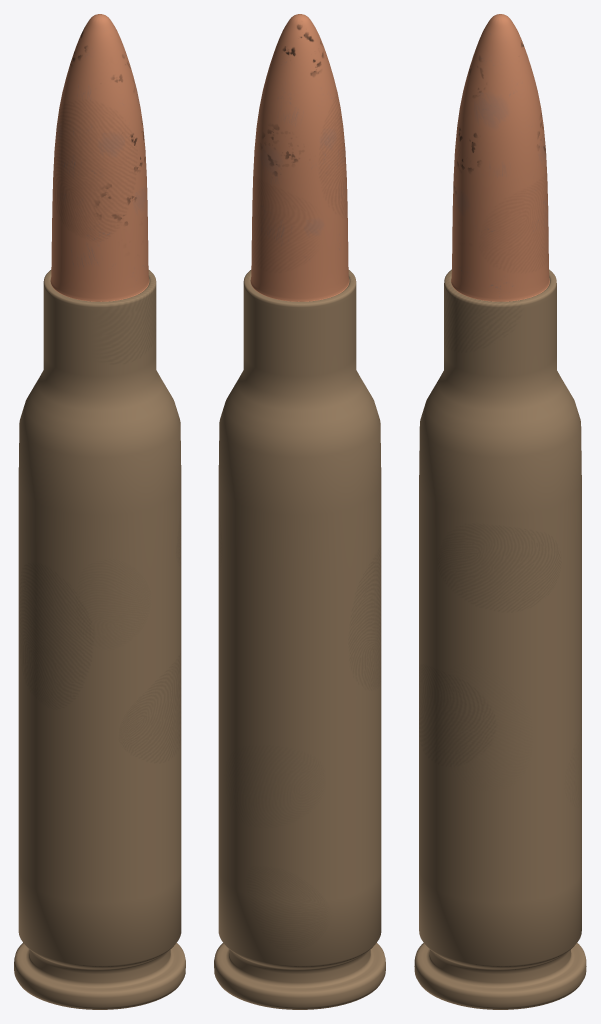
Rendered from bullet.gltf.
3 views of the same model, side by side, from view 1: azimuth 30°, elevation 25°; view 2: azimuth 150°, elevation 25°; view 3: azimuth 270°, elevation 25° (orthographic).
Visible parts, largest first — view 1: Pocisk 1; view 2: Pocisk 1; view 3: Pocisk 1.
Boxes of the visible parts, x1,y1,x2,y2 form: Pocisk 1: (14, 14, 185, 1009); Pocisk 1: (214, 14, 385, 1009); Pocisk 1: (414, 14, 586, 1009).
Size of the model in its own units: 32.56 by 201 by 32.56.
Materials: 3 (3 with a texture image).
